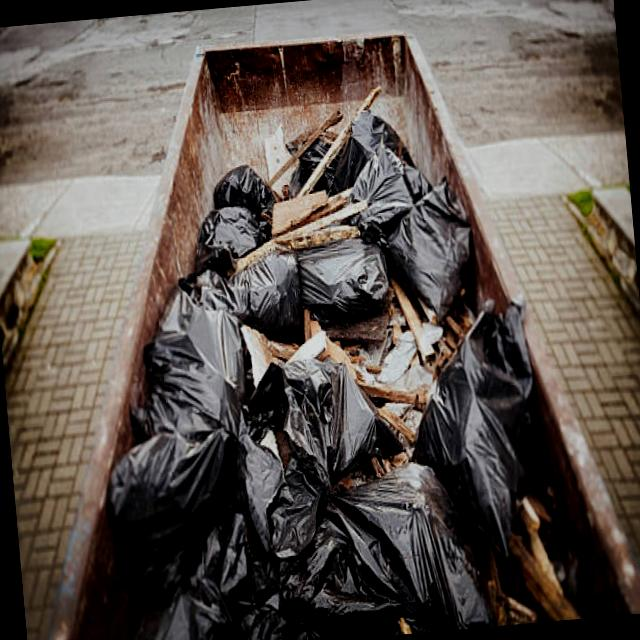garbage: (78, 82, 561, 640)
